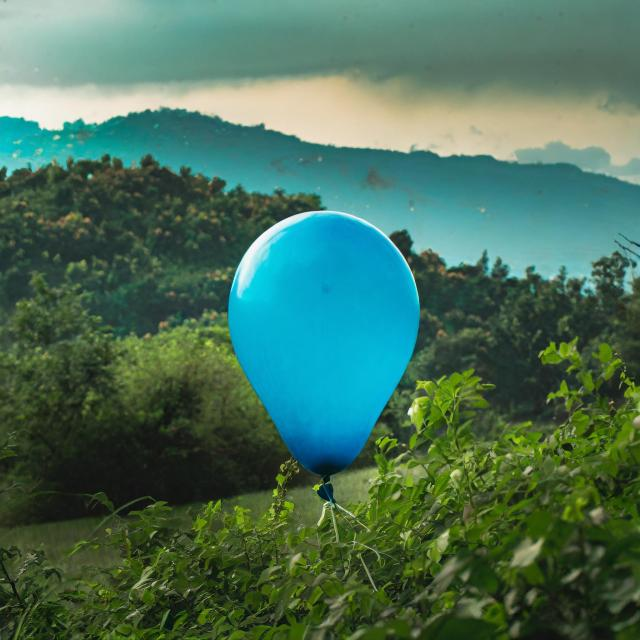blue: (231, 212, 423, 481)
